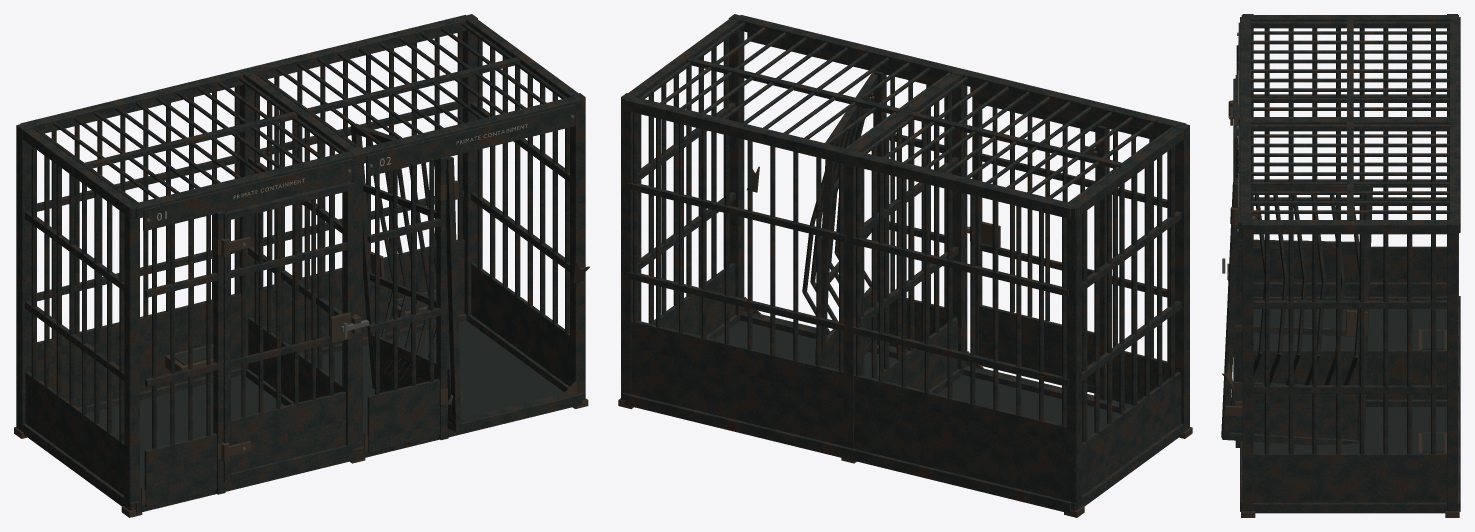
File: RunawayChimps_Level1_Cages.fbx
The picture shows the model from 3 angles, left to right: view 1: azimuth 30°, elevation 25°; view 2: azimuth 150°, elevation 25°; view 3: azimuth 270°, elevation 25°; orthographic projection. The views are drawn at different scales.
Parts seen in each view (by area): view 1: CageRow_StaticFrame, Cage_01_Door_Closed_Mesh, Cage_02_Door_BROKEN_Mesh; view 2: CageRow_StaticFrame, Cage_01_Door_Closed_Mesh, Cage_02_Door_BROKEN_Mesh; view 3: CageRow_StaticFrame, Cage_02_Door_BROKEN_Mesh, Cage_01_Door_Closed_Mesh.
Part boxes in pixels (x1=…): CageRow_StaticFrame: x1=14, y1=14, x2=589, y2=517; Cage_01_Door_Closed_Mesh: x1=221, y1=181, x2=369, y2=482; Cage_02_Door_BROKEN_Mesh: x1=350, y1=123, x2=462, y2=432; CageRow_StaticFrame: x1=618, y1=14, x2=1192, y2=517; Cage_01_Door_Closed_Mesh: x1=967, y1=96, x2=1097, y2=393; Cage_02_Door_BROKEN_Mesh: x1=802, y1=71, x2=877, y2=369; CageRow_StaticFrame: x1=1222, y1=14, x2=1460, y2=517; Cage_02_Door_BROKEN_Mesh: x1=1221, y1=181, x2=1372, y2=445; Cage_01_Door_Closed_Mesh: x1=1222, y1=78, x2=1238, y2=381.
Size of the model in its own units: 3.81 by 2.45 by 1.82.
5 materials, 1 textured.
